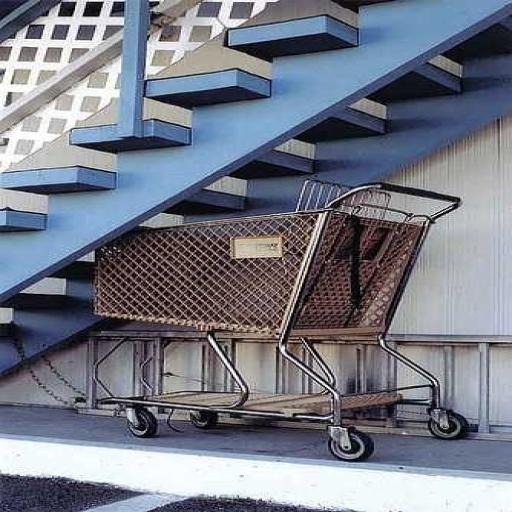shopping_cart: (86, 184, 467, 464)
